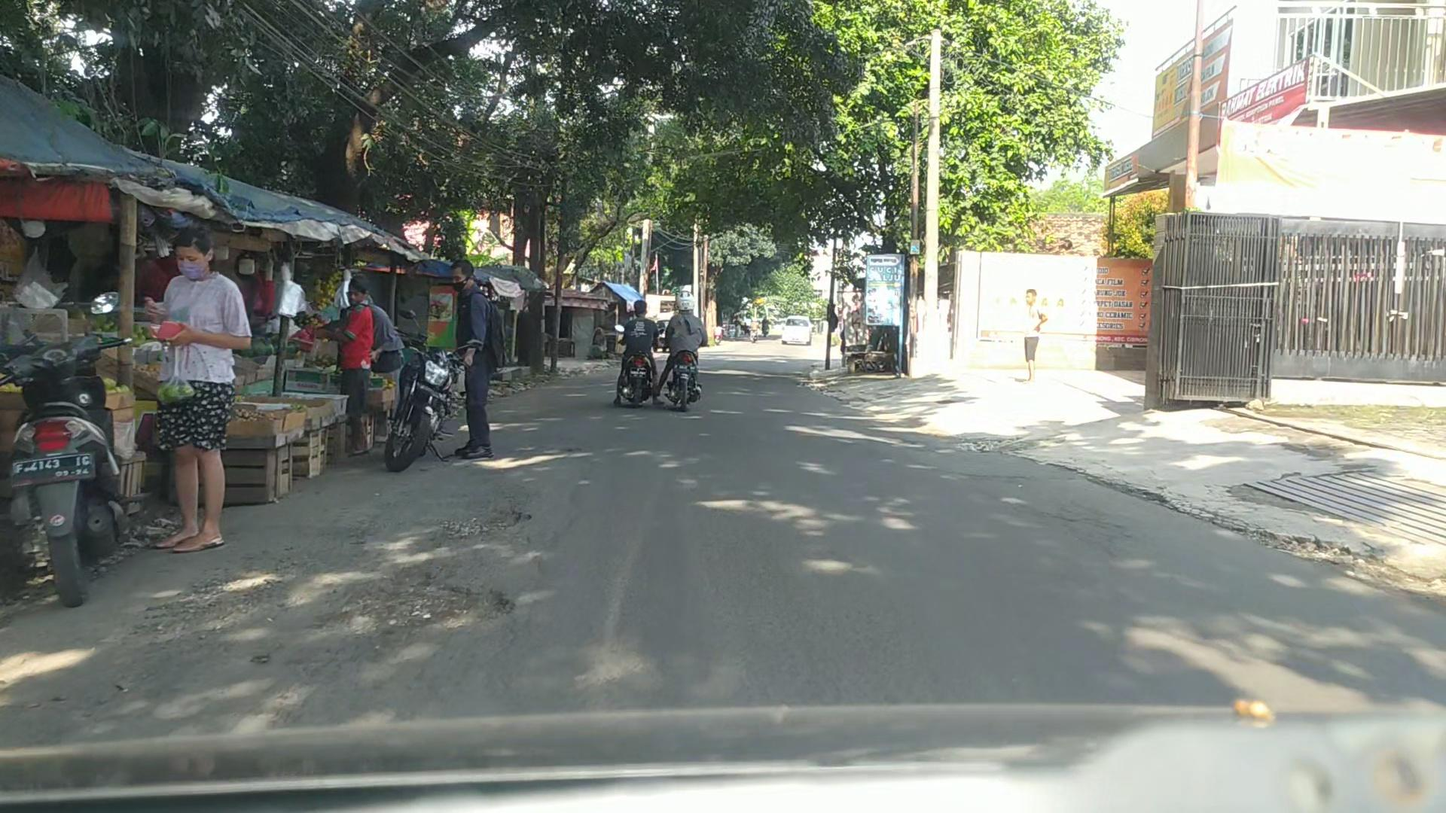pothole: (388, 564, 507, 626), (445, 506, 523, 536)
